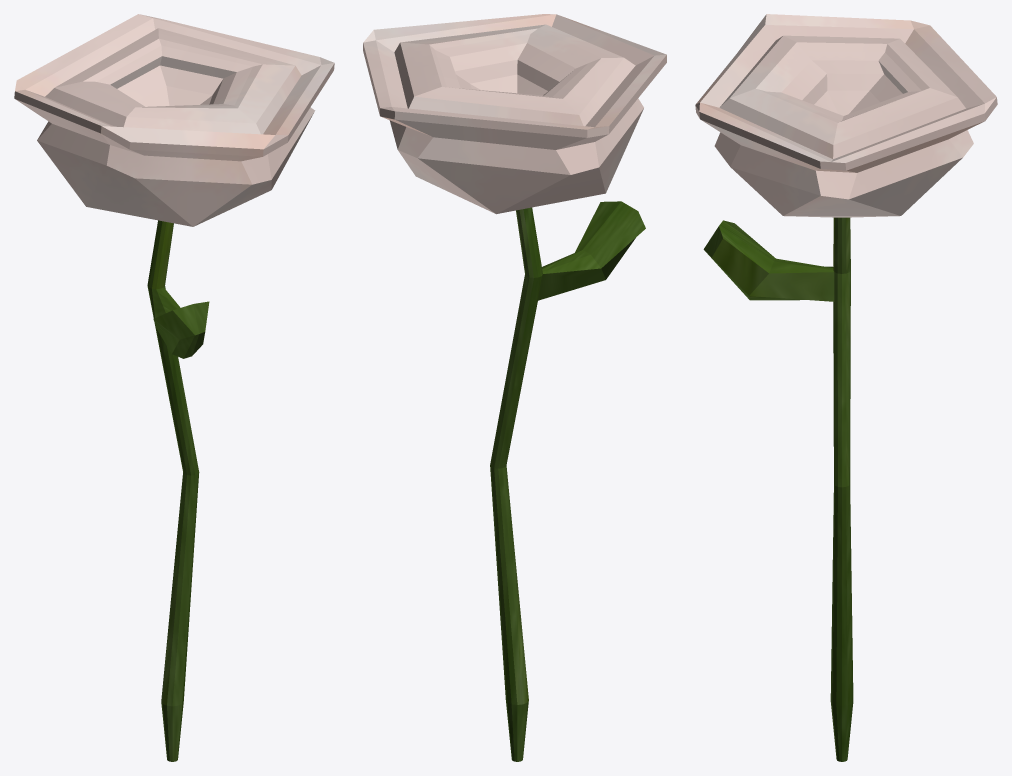
File: flamen_rose.fbx
The picture shows the model from 3 angles, left to right: view 1: azimuth 30°, elevation 25°; view 2: azimuth 150°, elevation 25°; view 3: azimuth 270°, elevation 25°; orthographic projection. The views are drawn at different scales.
Parts seen in each view (by area): view 1: Cylinder; view 2: Cylinder; view 3: Cylinder.
Part boxes in pixels (bbox=[...]): Cylinder: bbox=[14, 14, 334, 761]; Cylinder: bbox=[363, 14, 666, 761]; Cylinder: bbox=[695, 14, 997, 761].
Bounding box in the file's own units: 54.85 × 131 × 51.84.
